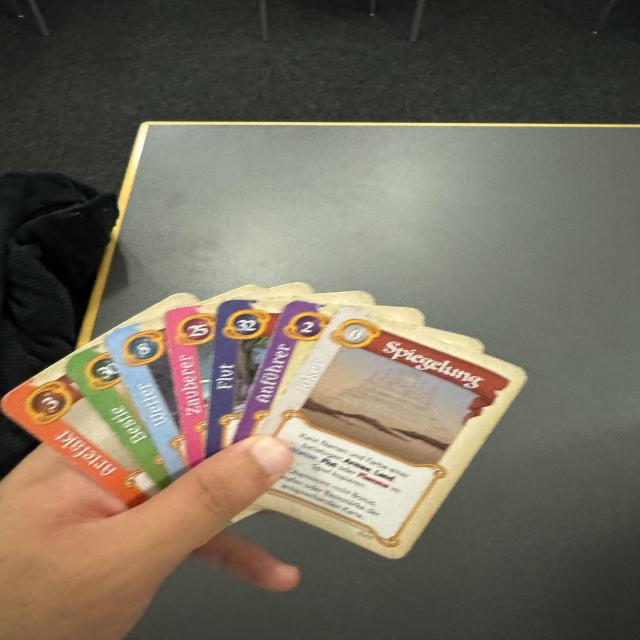Dragon: (60, 342, 174, 489)
Great Flood: (205, 300, 285, 458)
Mirage: (252, 302, 533, 563)
Princess: (232, 297, 338, 444)
Rainstorm: (101, 314, 188, 481)
Warlock Lord: (166, 302, 218, 472)
